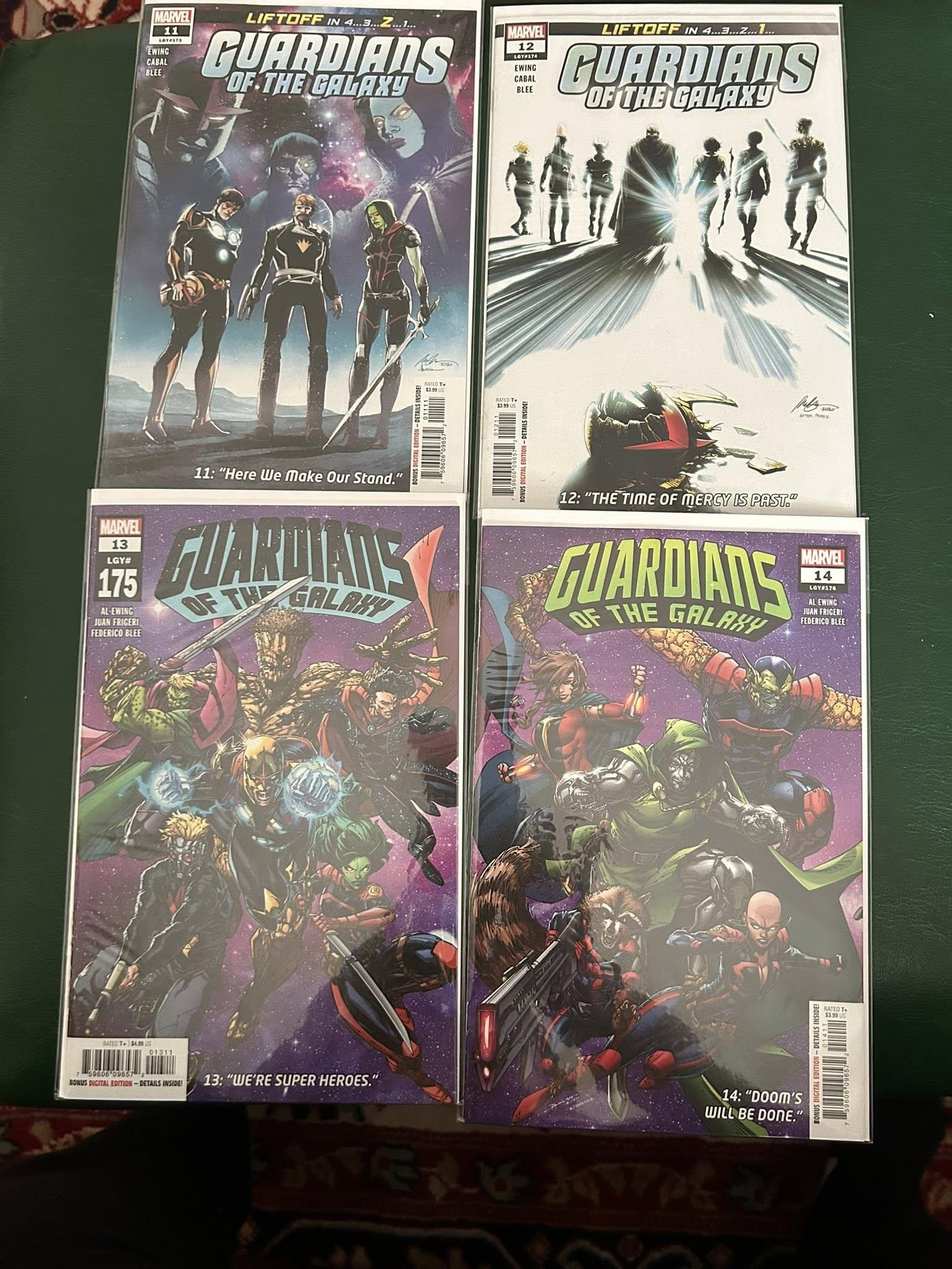comic: (459, 510, 881, 1139), (58, 490, 461, 1102), (481, 2, 858, 515), (98, 0, 484, 501)
